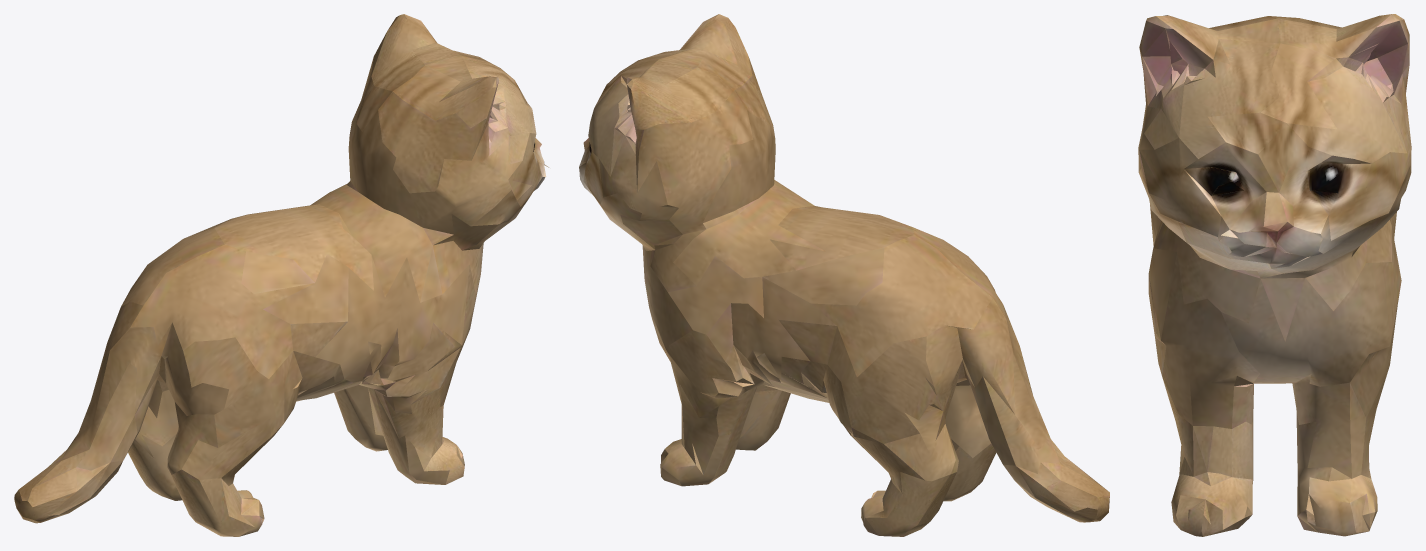
Rendered from catcoin-6-lo.glb.
3 views of the same model, side by side, from view 1: azimuth 30°, elevation 25°; view 2: azimuth 150°, elevation 25°; view 3: azimuth 270°, elevation 25° (orthographic). The views are drawn at different scales.
Parts seen in each view (by area): view 1: output_unwrapped; view 2: output_unwrapped; view 3: output_unwrapped.
Boxes of the visible parts, x1=… form: output_unwrapped: x1=14, y1=14, x2=549, y2=536; output_unwrapped: x1=579, y1=14, x2=1109, y2=536; output_unwrapped: x1=1138, y1=14, x2=1411, y2=536.
Bounding box in the file's own units: 1.36 × 1 × 0.4643.
1 material, 1 textured.
